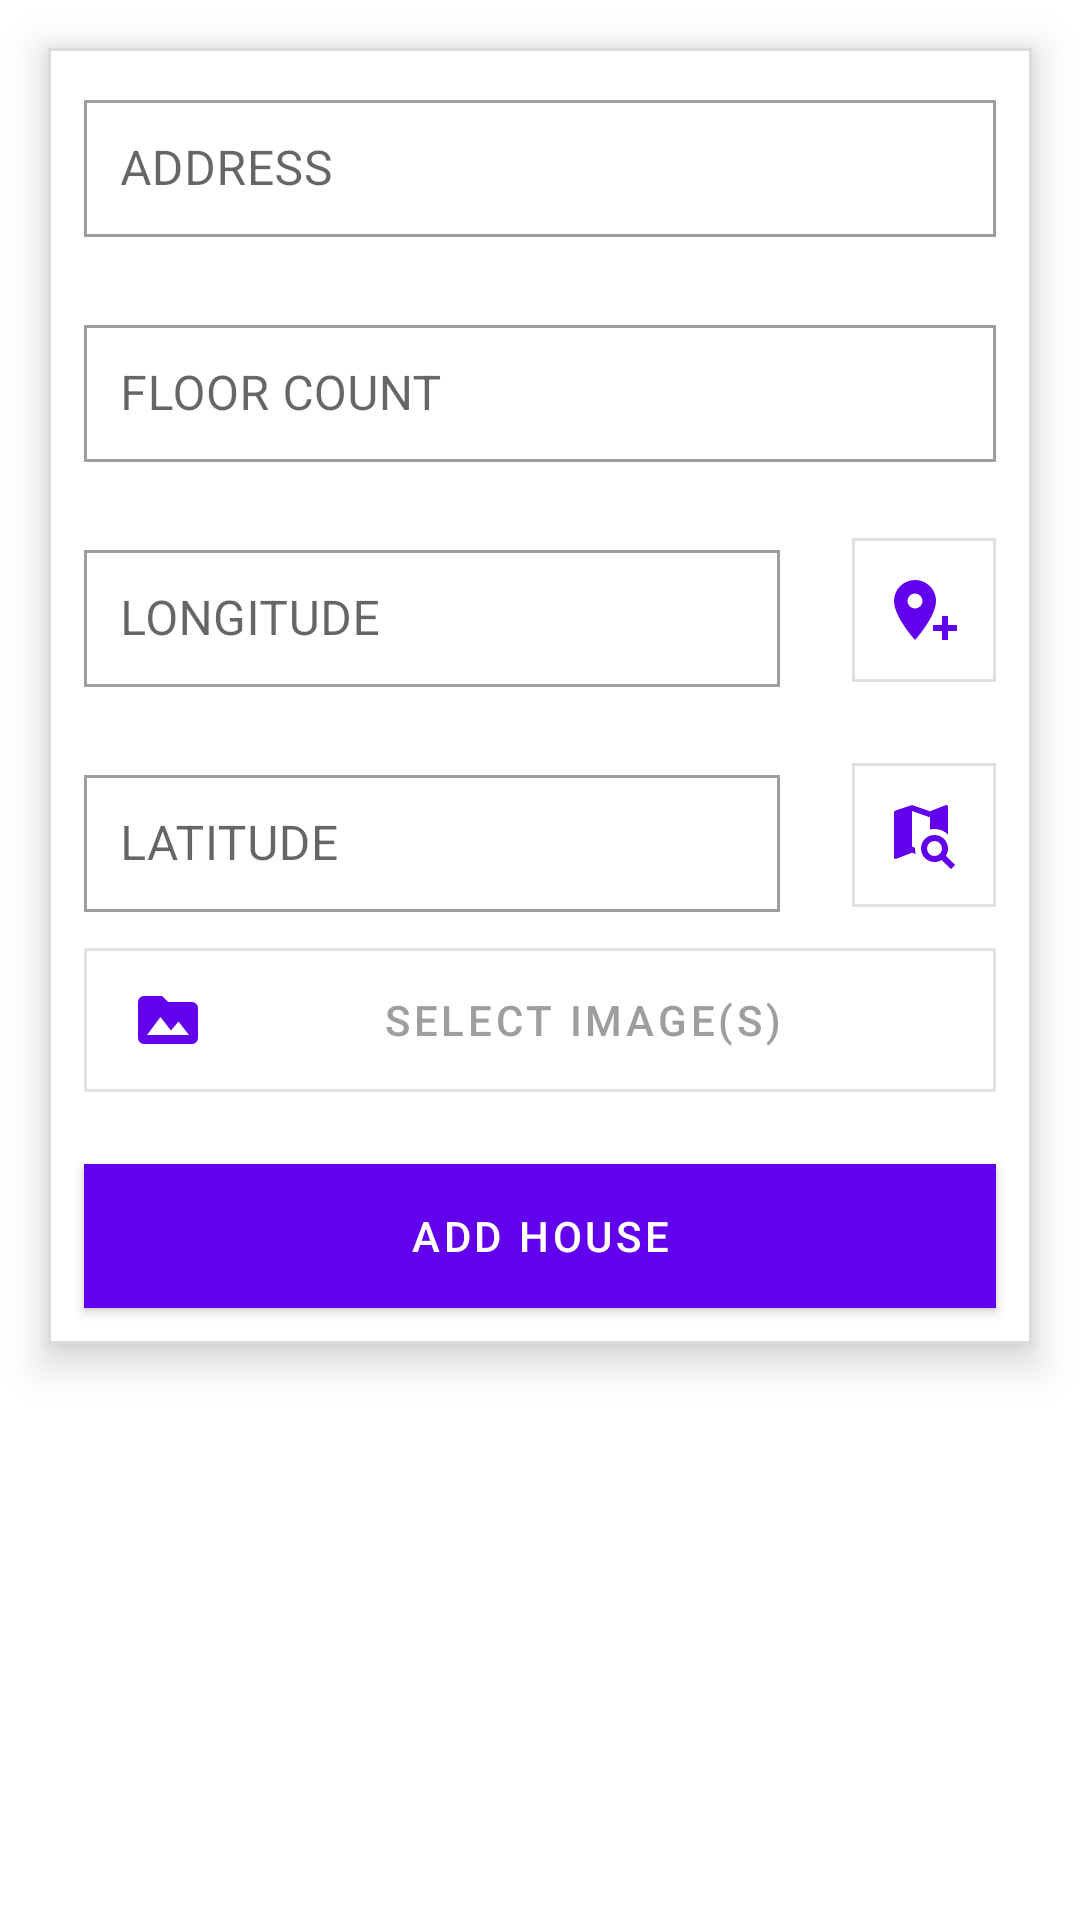

Icon click points for this 1080 × 1920 phone screenshot, format [x,y]:
map marker plus: [924,610]
map search: [924,835]
